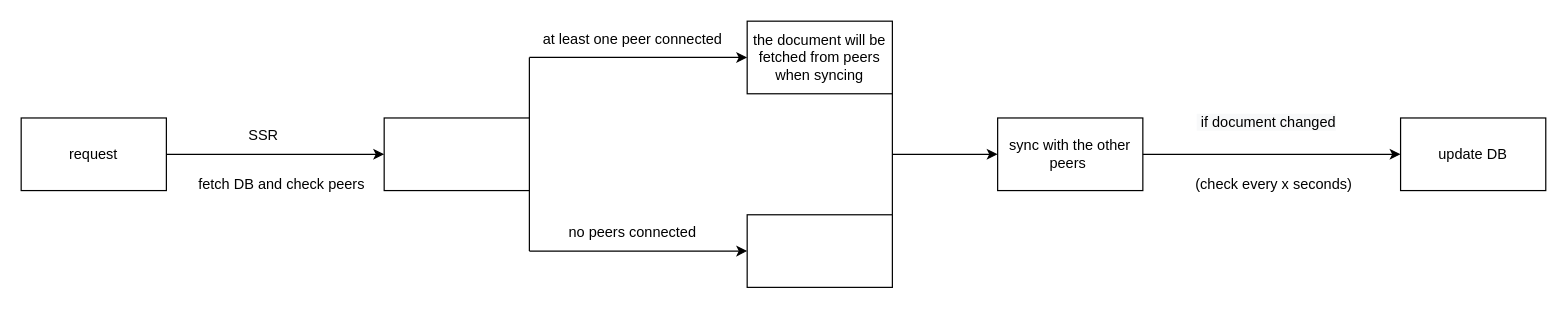
The diagram is 1567 pixels wide and 309 high, and some of its shapes have lost their labels. Each missing label, with the centre of its shape:
"fetch document from database" belongs at (819,250).
"frontend (CSR)" belongs at (456,154).
